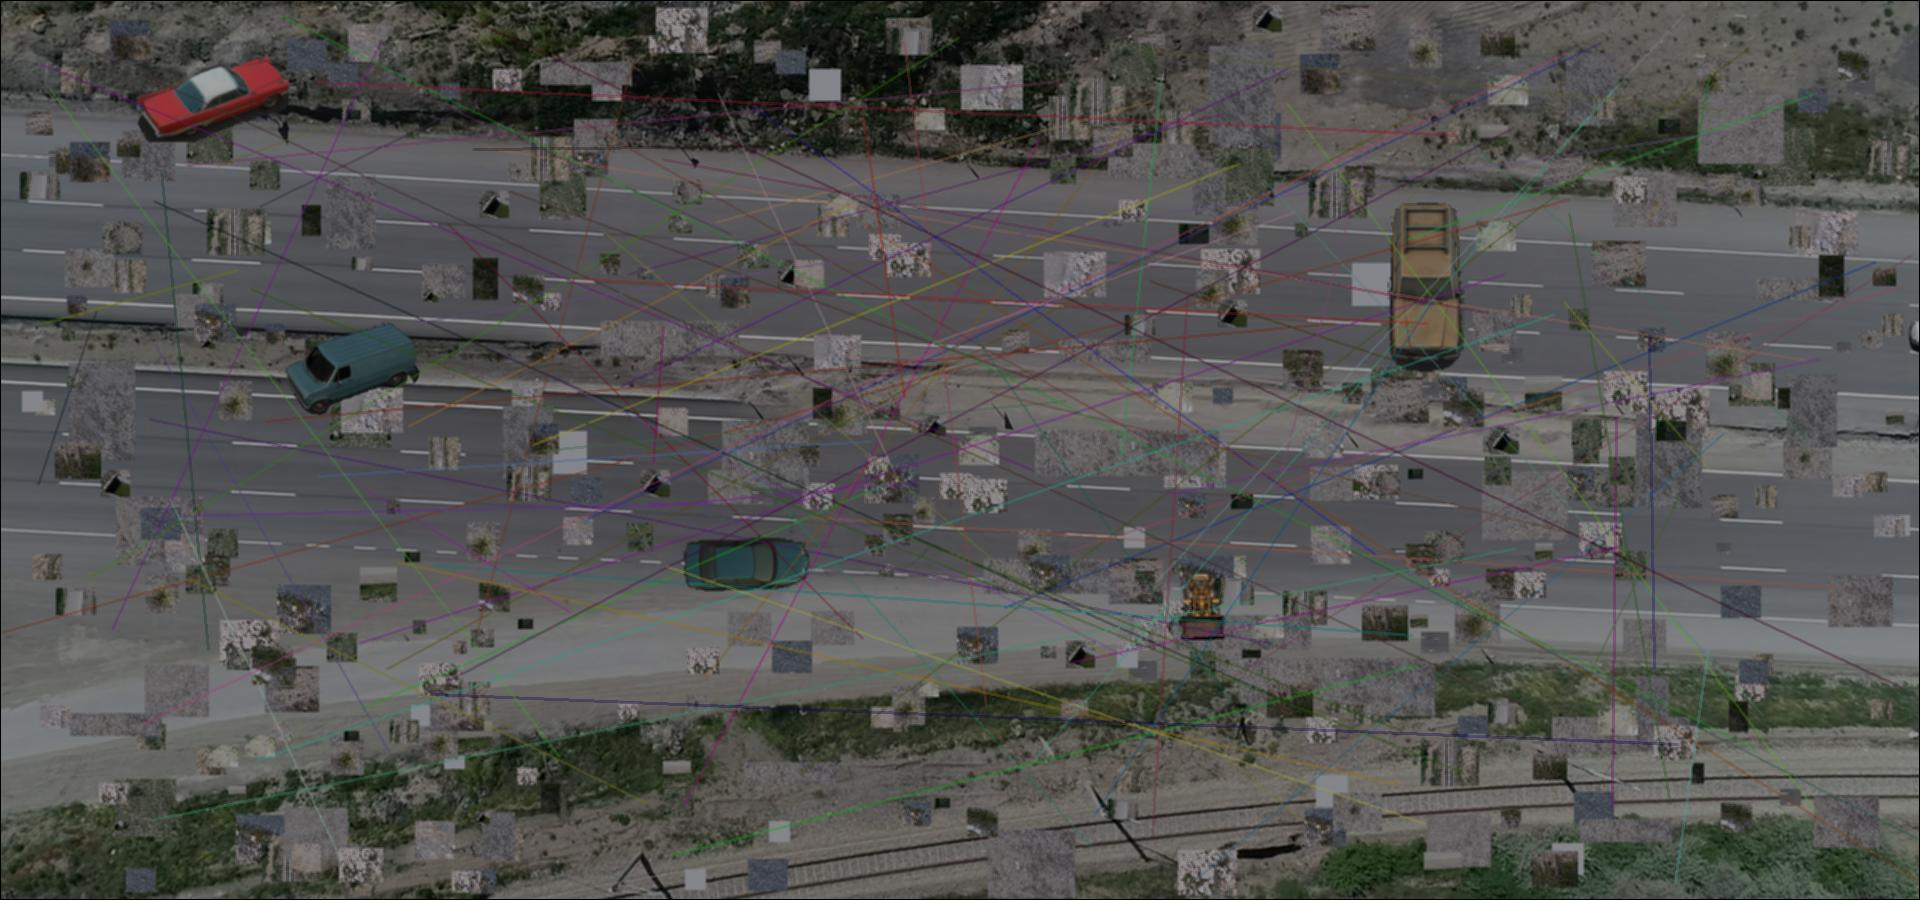arac: (1385, 200, 1469, 372), (137, 56, 289, 142), (287, 320, 418, 415), (683, 536, 811, 593), (1178, 568, 1227, 643)
